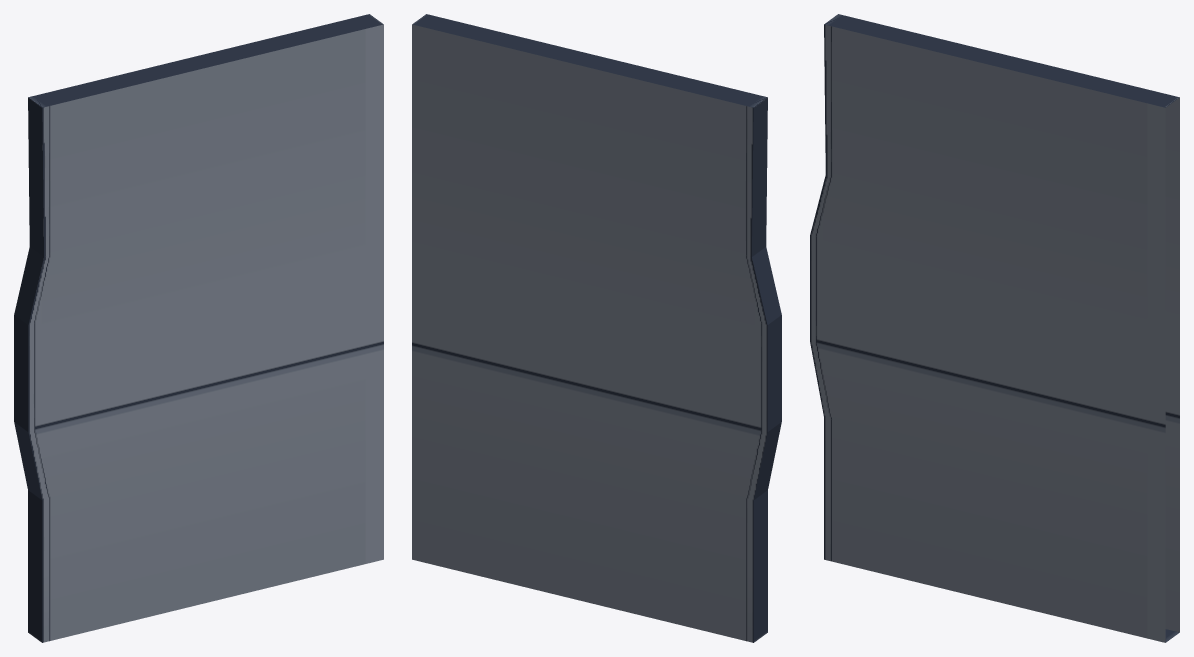
Rendered from Porta.fbx.
3 views of the same model, side by side, from view 1: azimuth 30°, elevation 25°; view 2: azimuth 150°, elevation 25°; view 3: azimuth 330°, elevation 25° (orthographic).
Visible parts, largest first — view 1: Cube.004; view 2: Cube.004; view 3: Cube.004.
Boxes of the visible parts, box(x1,y1,x2,y2) form: Cube.004: box(14, 14, 383, 642); Cube.004: box(412, 14, 781, 642); Cube.004: box(810, 14, 1179, 642).
Bounding box in the file's own units: 5.82 × 83.41 × 120.
